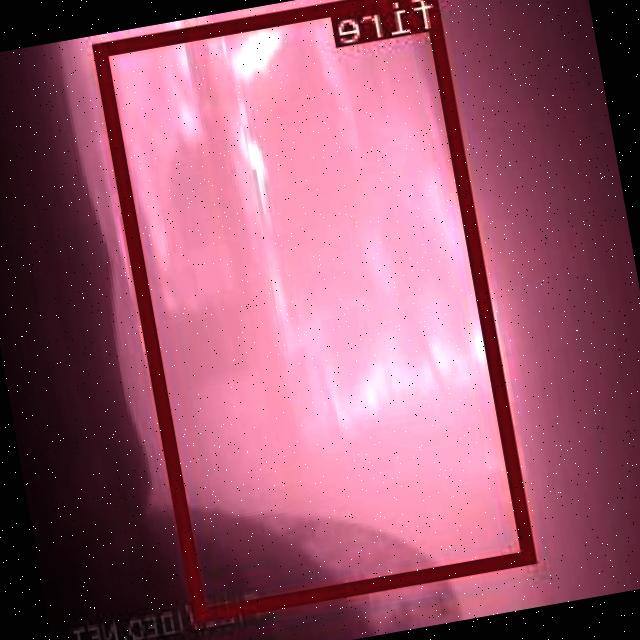fire: (96, 0, 537, 617)
